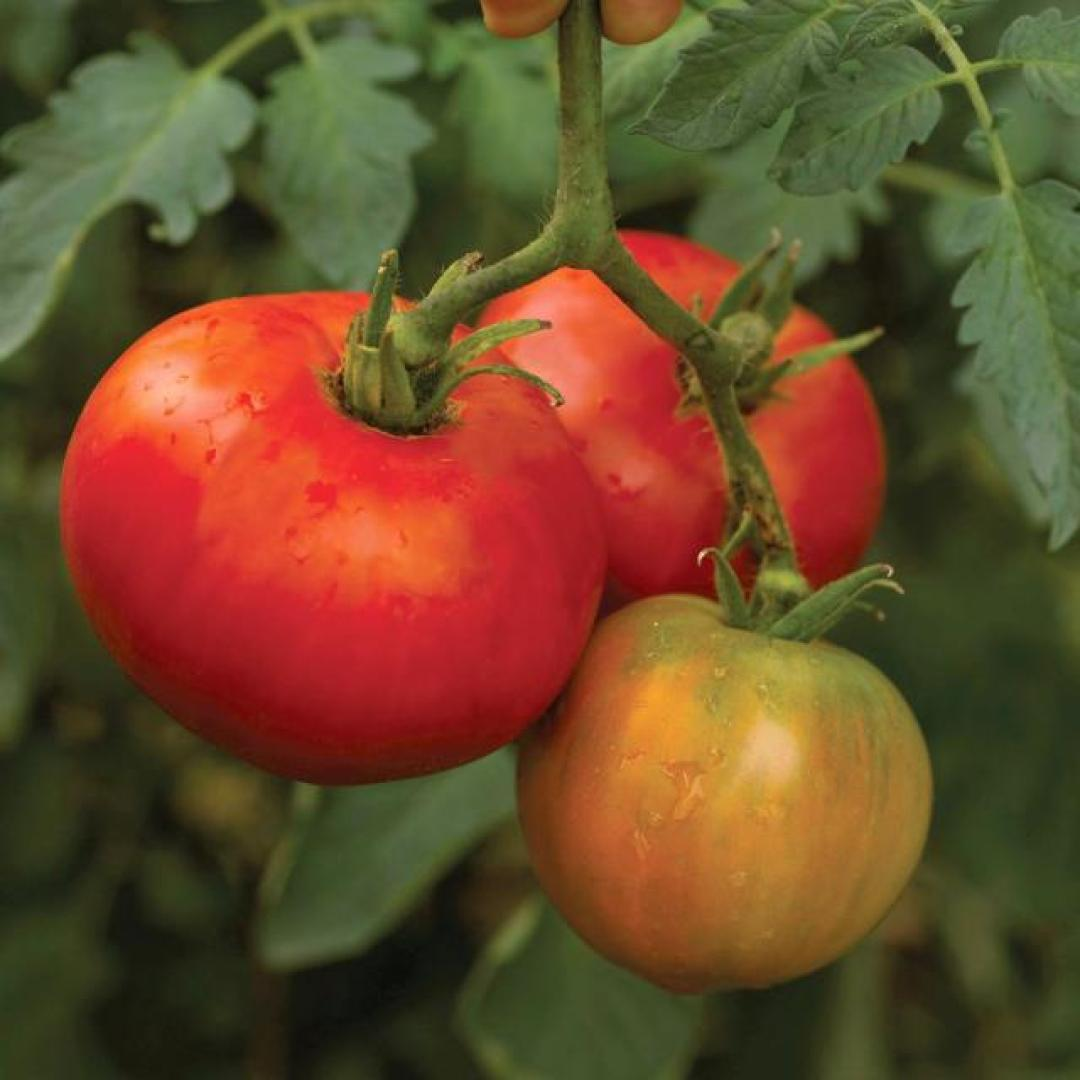matang: (52, 283, 611, 795)
setengah_matang: (509, 589, 934, 999)
